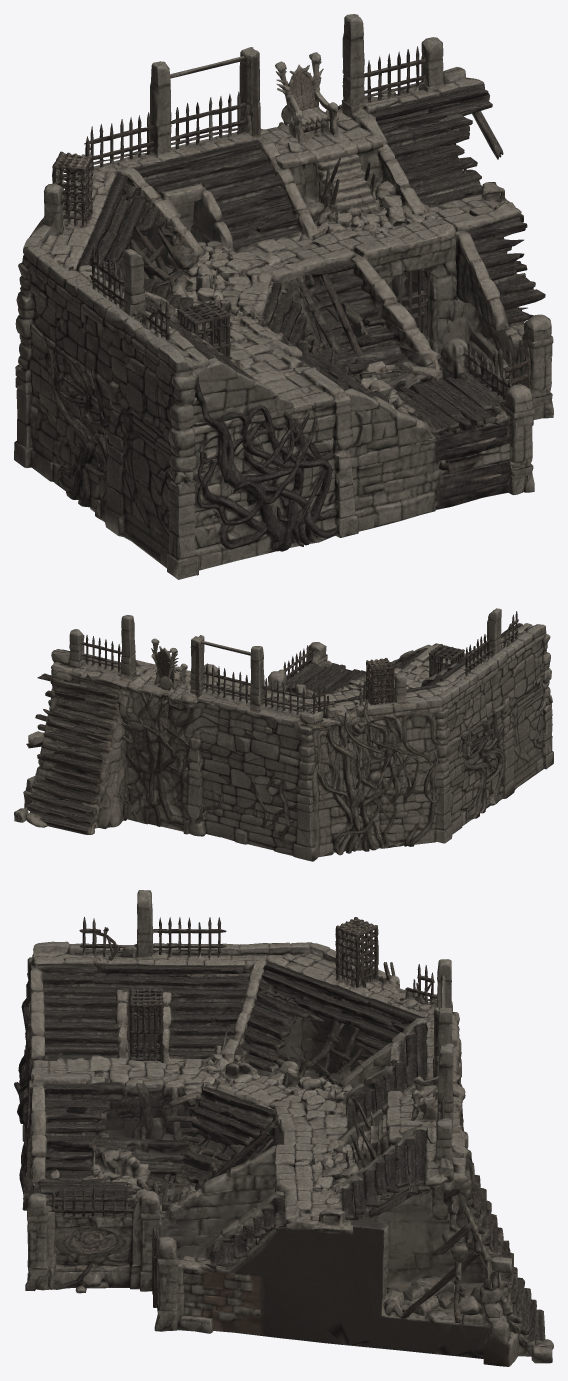
File: arena_corner_1.glb
The picture shows the model from 3 angles, top to bottom: view 1: azimuth 30°, elevation 25°; view 2: azimuth 150°, elevation 25°; view 3: azimuth 270°, elevation 25°; orthographic projection. The views are drawn at different scales.
Parts seen in each view (by area): view 1: mesh_node; view 2: mesh_node; view 3: mesh_node.
Boxes of the visible parts, x1=… form: mesh_node: x1=14, y1=14, x2=553, y2=579; mesh_node: x1=14, y1=608, x2=553, y2=861; mesh_node: x1=14, y1=890, x2=553, y2=1366.
Size of the model in its own units: 1.89 by 0.9865 by 1.81.
1 material, 1 textured.
